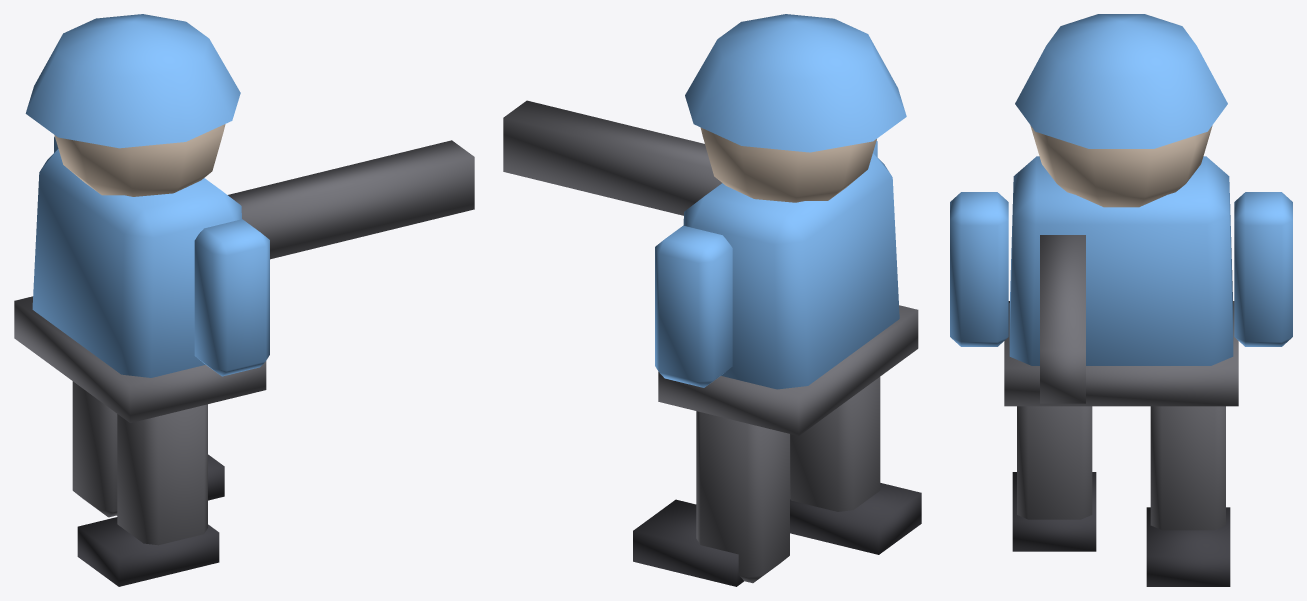
The model's file is trooper.glb.
3 renders of one model, left to right at view 1: azimuth 30°, elevation 25°; view 2: azimuth 150°, elevation 25°; view 3: azimuth 270°, elevation 25°, orthographic. The views are drawn at different scales.
Parts seen in each view (by area): view 1: body; view 2: body; view 3: body.
Boxes of the visible parts, x1,y1,x2,y2 form: body: (14,14,474,586); body: (503,14,921,586); body: (950,14,1292,586).
Bounding box in the file's own units: 0.2463 × 0.3053 × 0.1845.
